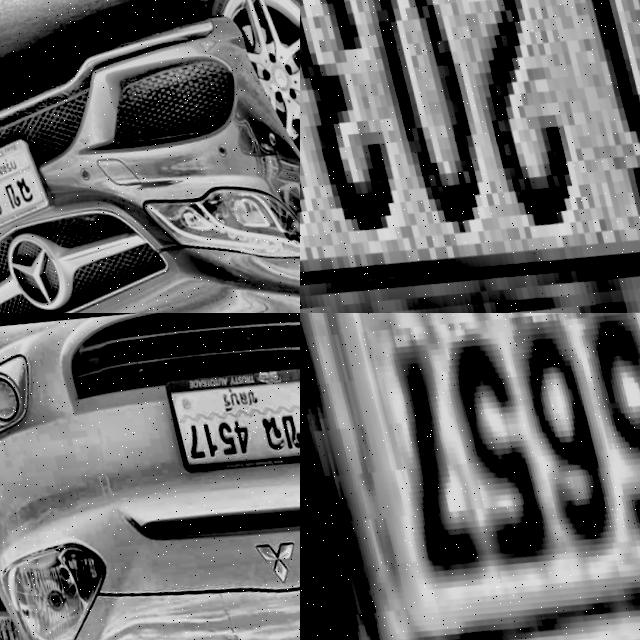license-plate: (300, 313, 640, 640), (300, 0, 640, 313), (156, 348, 300, 480), (0, 125, 52, 245)
